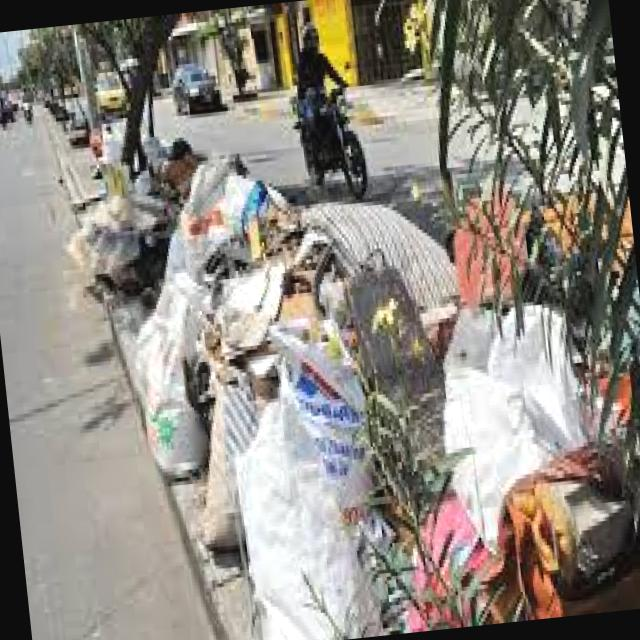garbage: (69, 101, 640, 640)
